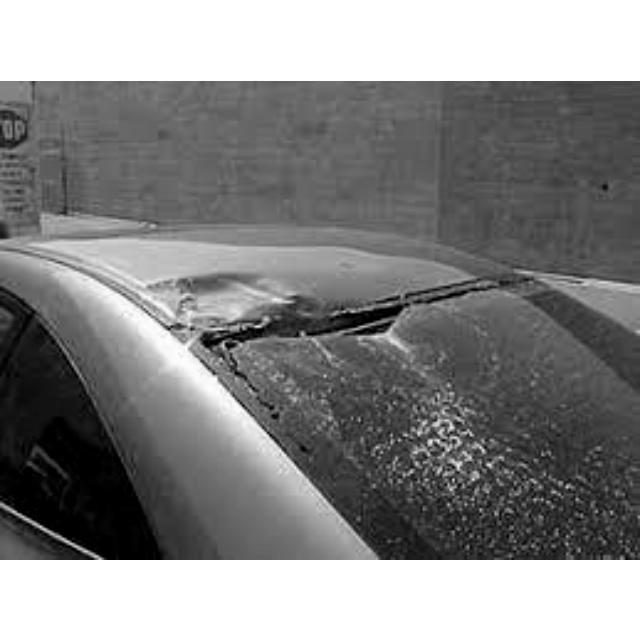Rear-windscreen-Damage: (167, 251, 638, 557)
